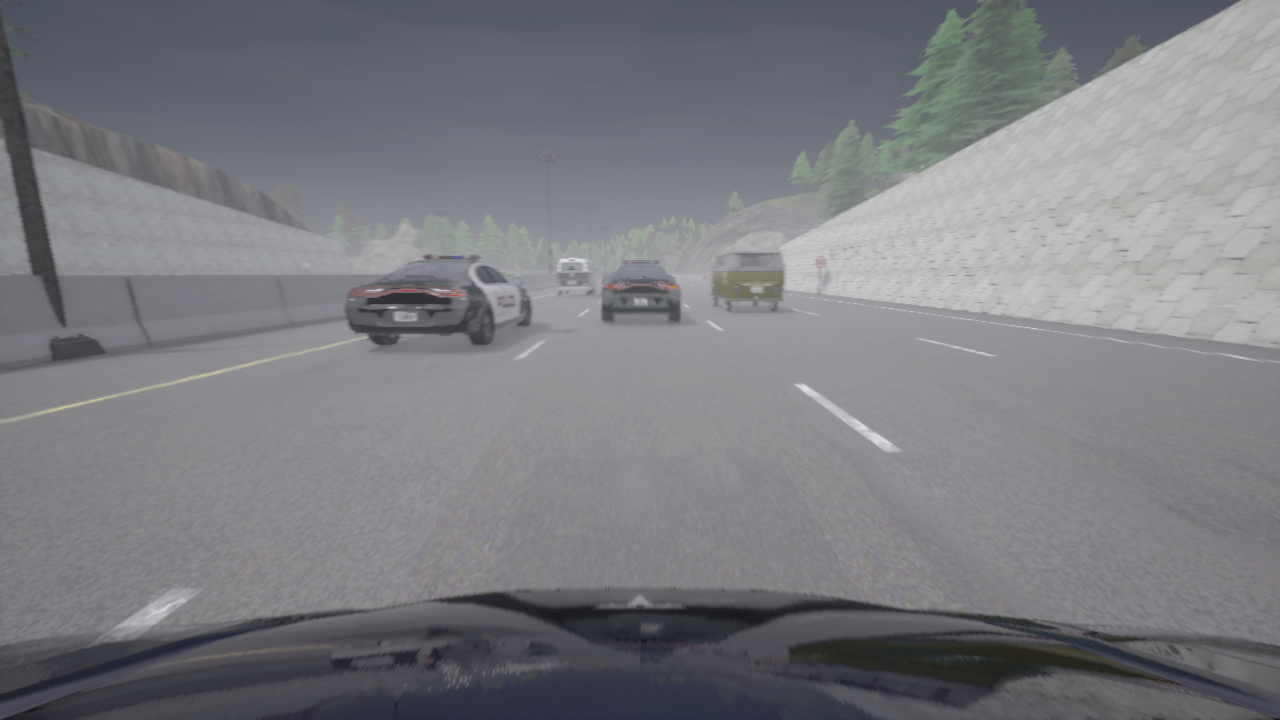cyclist: (0, 588, 1279, 719), (344, 256, 531, 345), (601, 261, 679, 322), (709, 249, 784, 311), (556, 258, 597, 296), (600, 271, 614, 284)
